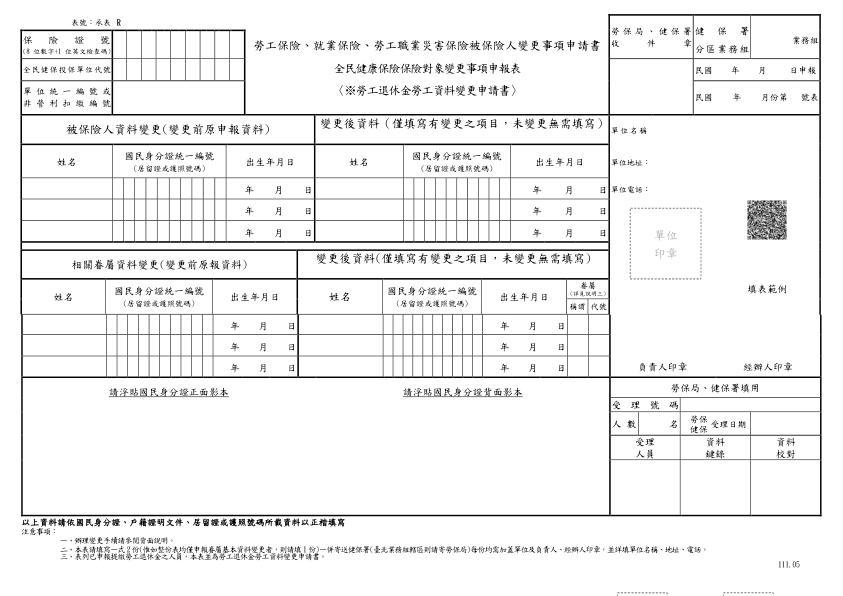table: (17, 112, 826, 519), (607, 12, 825, 115), (18, 27, 248, 114)
text: (251, 38, 606, 101), (58, 535, 708, 563), (21, 517, 348, 527), (69, 17, 125, 27), (20, 527, 55, 538), (776, 558, 803, 570)
